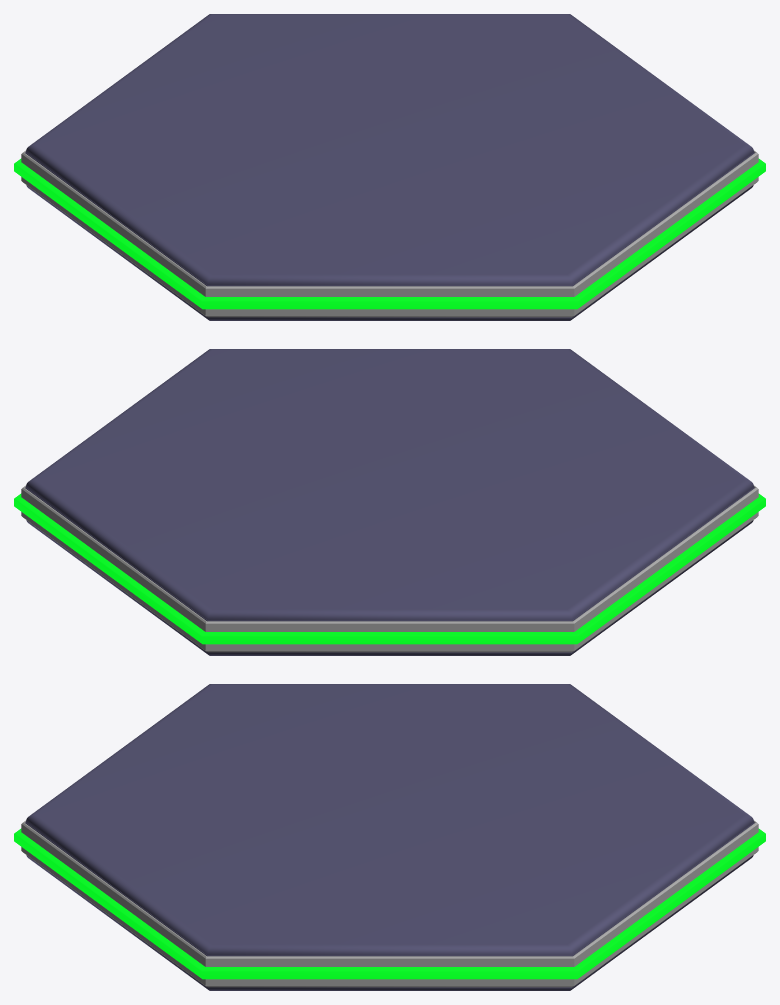
Rendered from hexagon.glb.
The picture shows the model from 3 angles, top to bottom: view 1: azimuth 30°, elevation 25°; view 2: azimuth 150°, elevation 25°; view 3: azimuth 270°, elevation 25°; orthographic projection.
Visible parts, largest first — view 1: base, state0; view 2: base, state0; view 3: base, state0.
Boxes of the visible parts, x1,y1,x2,y2 form: base: (21,14,758,320); state0: (14,158,765,309); base: (21,349,758,655); state0: (14,493,765,644); base: (21,684,758,990); state0: (14,828,765,979).
Size of the model in its own units: 5.86 by 0.4505 by 6.77.
